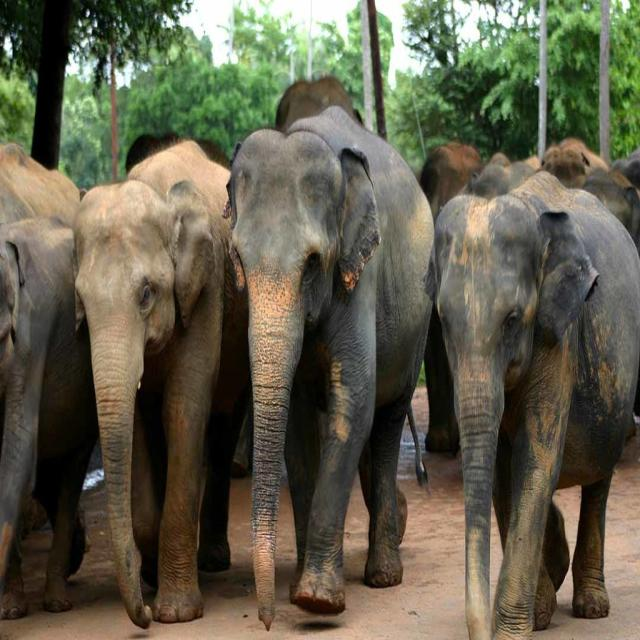Elephant: (223, 103, 436, 631), (422, 165, 640, 639), (0, 214, 98, 620)
